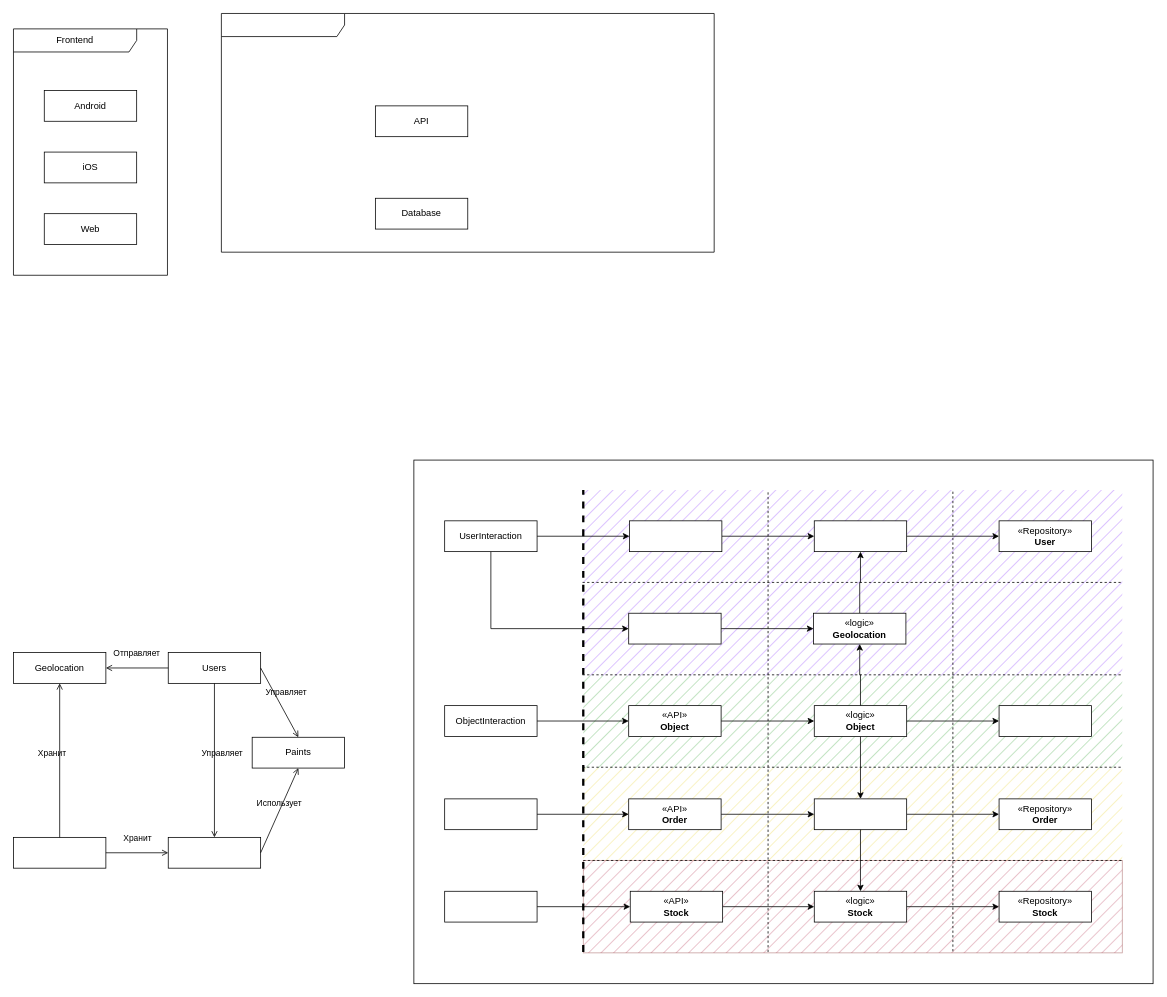
Some shapes in this 1167 by 997 pixel diagram are drawn without their labels. Here are the shapes that lost their labels. From the top down, the box of each, then its label:
(221, 13, 714, 252): Backend
(629, 520, 722, 552): «API» Login
(814, 520, 907, 552): «logic» User
(628, 612, 721, 644): «API» Geolocation
(998, 705, 1091, 736): «Repository» Object
(444, 798, 537, 830): OrderInteraction
(814, 798, 907, 830): «logic» Order
(13, 837, 106, 868): Objects
(167, 837, 261, 868): Orders
(444, 891, 537, 922): StockInteraction
